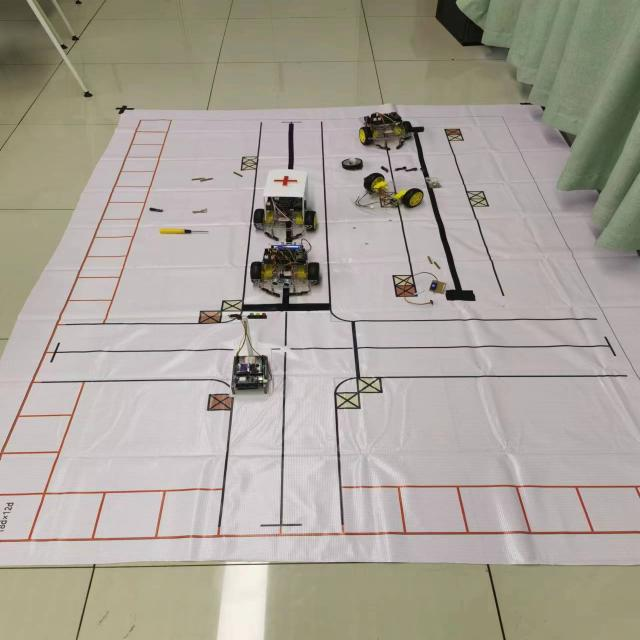RedCross: (271, 173, 300, 187)
